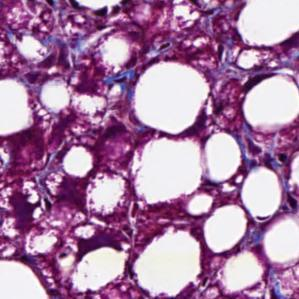inflammation: (19, 33, 77, 89), (0, 177, 47, 241), (207, 42, 264, 90)
